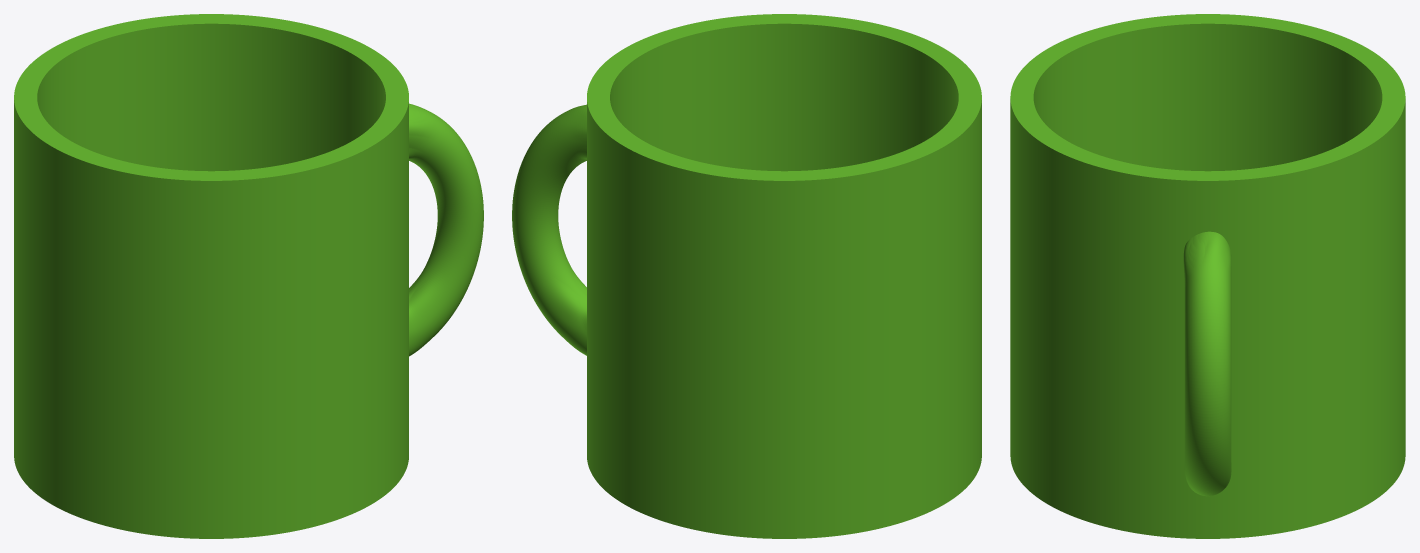
The model's file is KubekWSEIVERSE.fbx.
3 renders of one model, left to right at view 1: azimuth 30°, elevation 25°; view 2: azimuth 150°, elevation 25°; view 3: azimuth 270°, elevation 25°, orthographic.
Parts seen in each view (by area): view 1: mug; view 2: mug; view 3: mug.
Boxes of the visible parts, bbox=[...] form: mug: bbox=[14, 14, 483, 538]; mug: bbox=[512, 14, 981, 538]; mug: bbox=[1010, 14, 1405, 538].
Bounding box in the file's own units: 3317 × 2578 × 2578.
